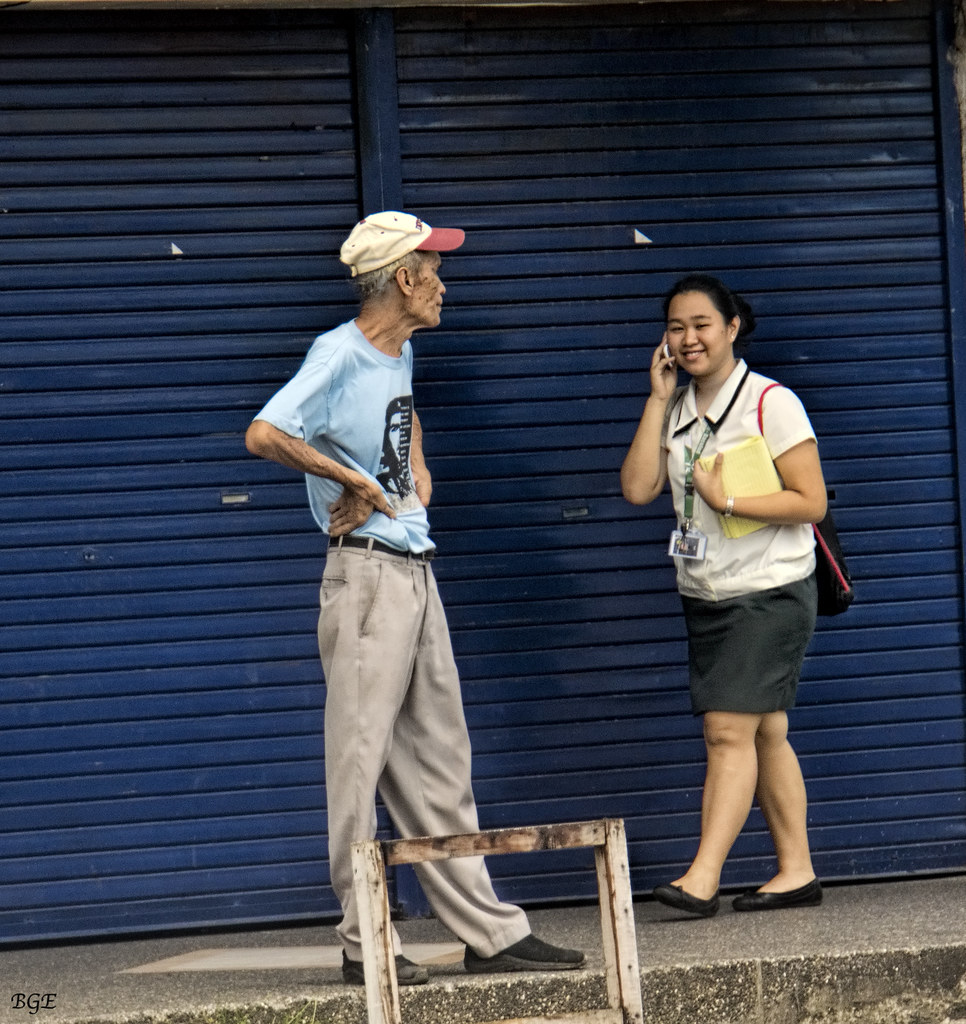phone: (643, 329, 682, 378)
talk: (638, 309, 725, 388)
